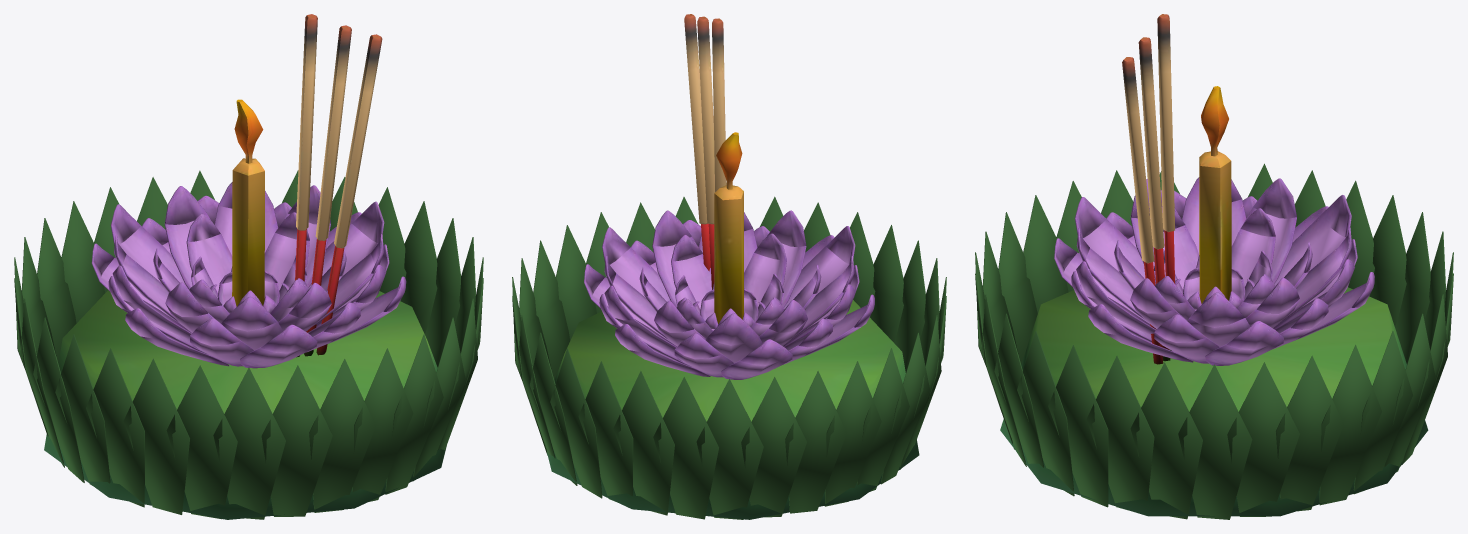
3 renders of one model, left to right at view 1: azimuth 30°, elevation 25°; view 2: azimuth 150°, elevation 25°; view 3: azimuth 270°, elevation 25°, orthographic. The views are drawn at different scales.
Visible parts, largest first — view 1: Flower_Lotus_Stylized_Lotus_0_003, Flower_017_Base_Material_0, Object_0_001, Flower_022_Base_Material_0_016, Flower_022_Base_Material_0_017, Flower_022_Base_Material_0_007, Flower_022_Base_Material_0_006, Flower_022_Base_Material_0_014, Flower_022_Base_Material_0_008, Flower_022_Base_Material_0_015, Flower_022_Base_Material_0_010, Flower_022_Base_Material_0_009 (+18 smaller); view 2: Flower_Lotus_Stylized_Lotus_0_003, Flower_017_Base_Material_0, Object_0_001, Flower_022_Base_Material_0_024, Flower_022_Base_Material_0_023, Flower_022_Base_Material_0_022, Flower_022_Base_Material_0_001, Flower_022_Base_Material_0_020, Flower_022_Base_Material_0_003, Flower_022_Base_Material_0_021, Flower_022_Base_Material_0_019, Flower_022_Base_Material_0_005 (+20 smaller); view 3: Flower_Lotus_Stylized_Lotus_0_003, Flower_017_Base_Material_0, Object_0_001, Flower_022_Base_Material_0_030, Flower_022_Base_Material_0_029, Flower_022_Base_Material_0_025, Flower_022_Base_Material_0_031, Flower_022_Base_Material_0_026, Flower_022_Base_Material_0_060, Flower_022_Base_Material_0_028, Flower_022_Base_Material_0_013, Flower_022_Base_Material_0_027 (+19 smaller).
Boxes of the visible parts, x1,y1,x2,y2 form: Flower_Lotus_Stylized_Lotus_0_003: (110, 182, 386, 350); Flower_017_Base_Material_0: (44, 290, 446, 519); Object_0_001: (232, 14, 382, 357); Flower_022_Base_Material_0_016: (261, 365, 332, 516); Flower_022_Base_Material_0_017: (213, 367, 285, 519); Flower_022_Base_Material_0_007: (166, 365, 237, 519); Flower_022_Base_Material_0_006: (123, 358, 189, 514); Flower_022_Base_Material_0_014: (309, 359, 375, 512); Flower_022_Base_Material_0_008: (86, 348, 144, 507); Flower_022_Base_Material_0_015: (352, 348, 413, 501); Flower_022_Base_Material_0_010: (385, 334, 443, 494); Flower_022_Base_Material_0_009: (55, 334, 110, 485); Flower_Lotus_Stylized_Lotus_0_003: (602, 210, 855, 362); Flower_017_Base_Material_0: (547, 300, 919, 519); Object_0_001: (684, 14, 743, 323); Flower_022_Base_Material_0_024: (653, 377, 718, 519); Flower_022_Base_Material_0_023: (696, 379, 763, 519); Flower_022_Base_Material_0_022: (741, 377, 806, 517); Flower_022_Base_Material_0_001: (785, 371, 846, 513); Flower_022_Base_Material_0_020: (613, 371, 674, 515); Flower_022_Base_Material_0_003: (825, 361, 881, 506); Flower_022_Base_Material_0_021: (578, 361, 633, 501); Flower_022_Base_Material_0_019: (550, 348, 602, 498); Flower_022_Base_Material_0_005: (857, 348, 909, 491); Flower_Lotus_Stylized_Lotus_0_003: (1074, 177, 1354, 346); Flower_017_Base_Material_0: (1000, 287, 1428, 516); Object_0_001: (1122, 14, 1231, 364); Flower_022_Base_Material_0_030: (1178, 364, 1252, 519); Flower_022_Base_Material_0_029: (1130, 362, 1202, 519); Flower_022_Base_Material_0_025: (1227, 362, 1299, 516); Flower_022_Base_Material_0_031: (1086, 356, 1154, 510); Flower_022_Base_Material_0_026: (1275, 355, 1343, 511); Flower_022_Base_Material_0_060: (1048, 345, 1108, 507); Flower_022_Base_Material_0_028: (1319, 345, 1381, 505); Flower_022_Base_Material_0_013: (1017, 331, 1074, 496); Flower_022_Base_Material_0_027: (1353, 331, 1412, 494).
Bounding box in the file's own units: 0.1931 × 0.1934 × 0.192.
Materials: 39 (38 with a texture image).
